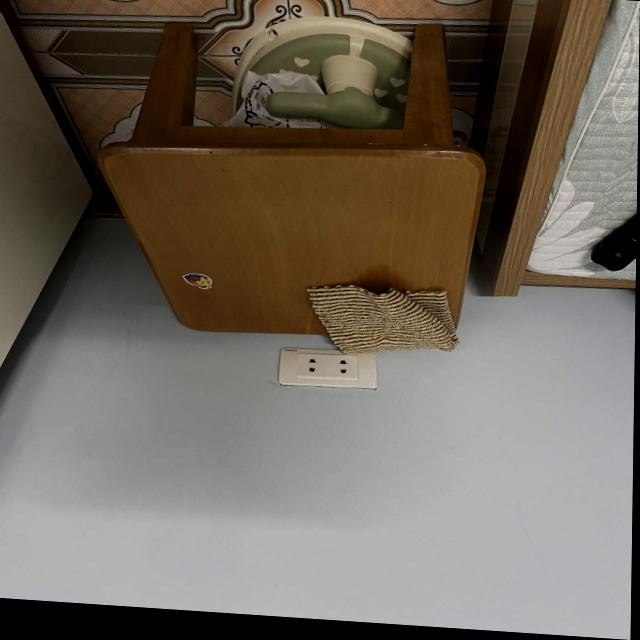outlet: (278, 344, 379, 391)
